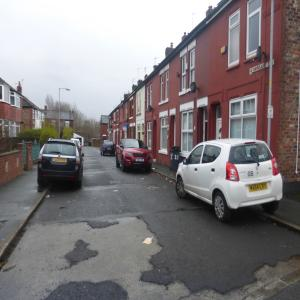Vehicle-registration-plate: (250, 183, 268, 193), (53, 158, 67, 162)
